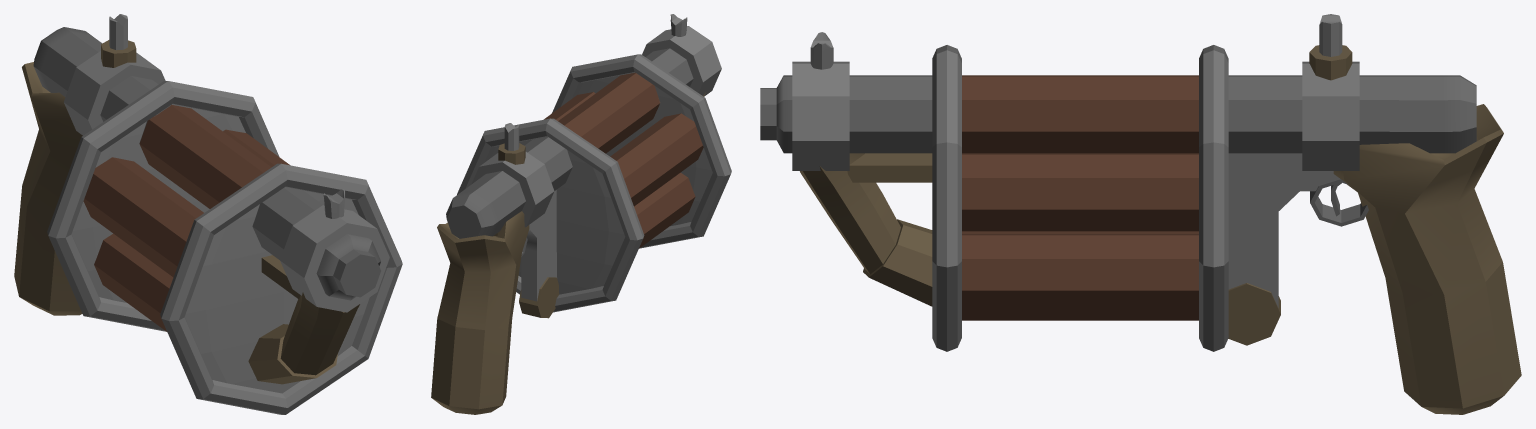
Rendered from holyLauncher.fbx.
3 renders of one model, left to right at view 1: azimuth 30°, elevation 25°; view 2: azimuth 150°, elevation 25°; view 3: azimuth 270°, elevation 25°, orthographic. The views are drawn at different scales.
Visible parts, largest first — view 1: pTorus1 (×2), pSphere1 (×2), pCylinder11, pCylinder6, pCylinder1, pCylinder8, polySurface1, pCylinder10, pCylinder9, pCylinder7, pCylinder13, pCylinder2 (+4 smaller); view 2: pCylinder11, pTorus1 (×2), pSphere1 (×2), pCylinder9, pCylinder6, pCylinder1, pCube2, pCylinder10, pCylinder7, pCylinder13, pCylinder12, pCylinder8 (+4 smaller); view 3: pCylinder11, pCylinder1, pCylinder2, pCylinder3, pTorus1 (×2), pCylinder9, polySurface1, pCylinder8, pCube2, pCylinder10, pCylinder13, pCylinder12 (+7 smaller).
Part boxes in pixels (x1,y1,x2,y2): pTorus1 (×2): (47,81,402,414); pSphere1 (×2): (71,104,369,393); pCylinder11: (14,62,82,315); pCylinder6: (83,157,203,277); pCylinder1: (139,104,271,208); pCylinder8: (252,187,380,300); polySurface1: (248,292,359,384); pCylinder10: (280,205,389,312); pCylinder9: (33,27,190,143); pCylinder7: (94,233,173,331); pCylinder13: (64,51,165,135); pCylinder2: (223,129,289,166); pCylinder11: (431,211,529,414); pTorus1 (×2): (457,54,731,312); pSphere1 (×2): (491,72,712,294); pCylinder9: (446,136,572,238); pCylinder6: (610,113,703,206); pCylinder1: (558,72,660,153); pCube2: (521,190,556,301); pCylinder10: (642,26,721,96); pCylinder7: (634,172,695,248); pCylinder13: (471,152,554,227); pCylinder12: (519,277,559,318); pCylinder8: (645,48,693,104); pCylinder11: (1333,104,1521,414); pCylinder1: (962,75,1198,153); pCylinder2: (962,153,1198,231); pCylinder3: (962,234,1198,311); pTorus1 (×2): (932,45,1228,351); pCylinder9: (1228,75,1476,153); polySurface1: (800,153,932,306); pCylinder8: (760,75,932,153); pCube2: (1228,153,1339,307); pCylinder10: (792,61,849,170); pCylinder13: (1302,61,1359,170); pCylinder12: (1228,283,1280,345).
Bounding box in the file's own units: 5.5 × 7.14 × 12.81.
